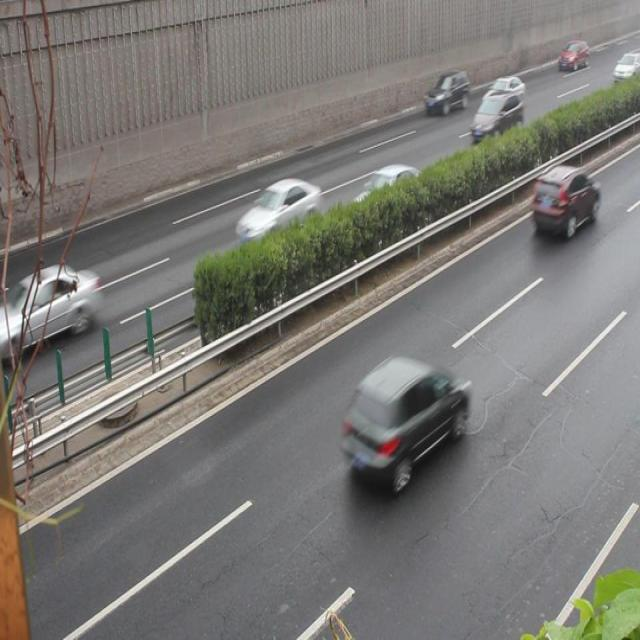car: (339, 355, 466, 491), (1, 264, 100, 356), (234, 176, 320, 249), (530, 163, 600, 238), (346, 166, 421, 232), (469, 89, 523, 143), (424, 70, 468, 114), (481, 76, 524, 114)
